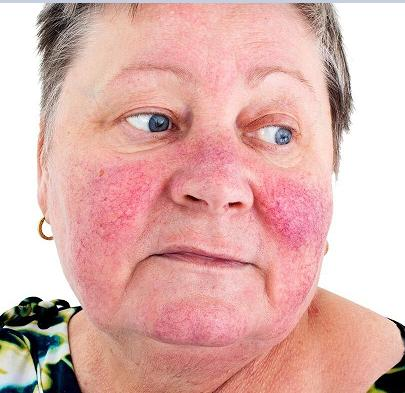Skin-Redness: (62, 159, 164, 272), (257, 180, 335, 256), (157, 302, 233, 349), (183, 129, 244, 181)
